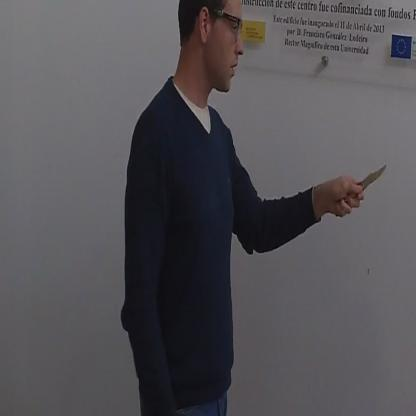knife: (332, 156, 390, 220)
